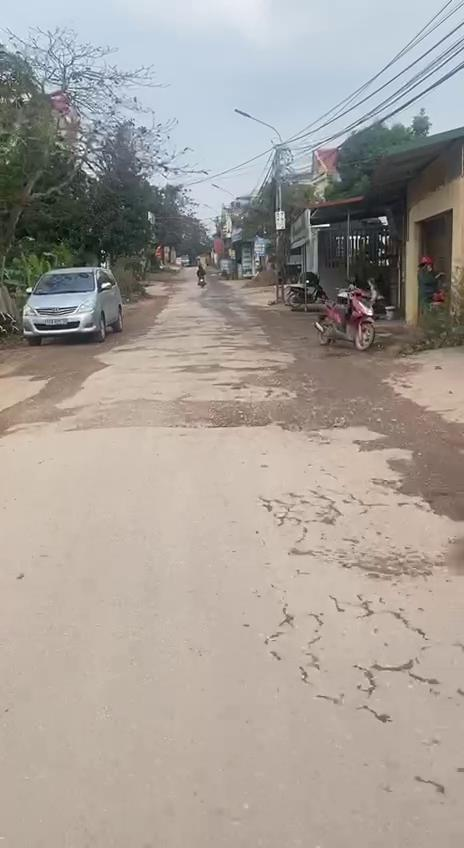pothole: (101, 390, 375, 427), (0, 349, 100, 440), (358, 435, 464, 520)
